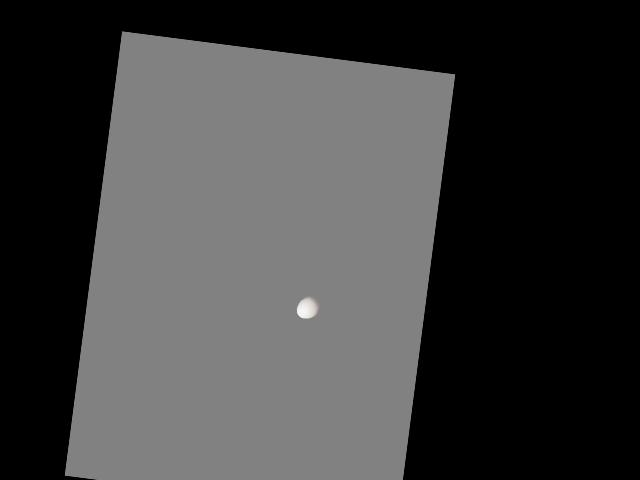egg: (296, 294, 321, 319)
